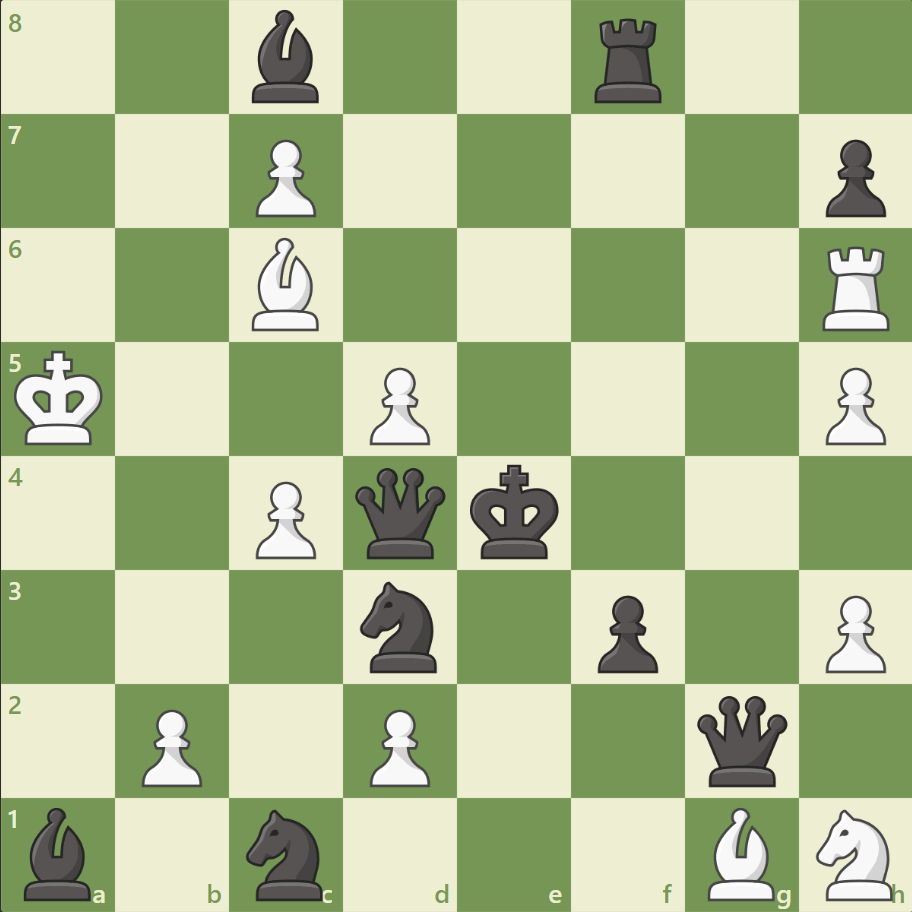B: (244, 233, 328, 336), (698, 801, 782, 904)
K: (11, 344, 111, 452)
N: (806, 802, 903, 904)
P: (247, 132, 322, 223), (247, 473, 322, 564), (133, 700, 208, 791), (361, 359, 435, 450), (815, 359, 889, 450), (815, 586, 889, 677), (361, 700, 435, 791)
R: (814, 239, 897, 336)
b: (244, 6, 328, 109), (17, 801, 101, 904)
k: (465, 458, 565, 566)
n: (351, 575, 449, 677), (238, 802, 335, 904)
p: (815, 132, 889, 223), (588, 586, 662, 677)
q: (351, 463, 450, 562), (691, 690, 790, 789)
r: (587, 12, 670, 109)
